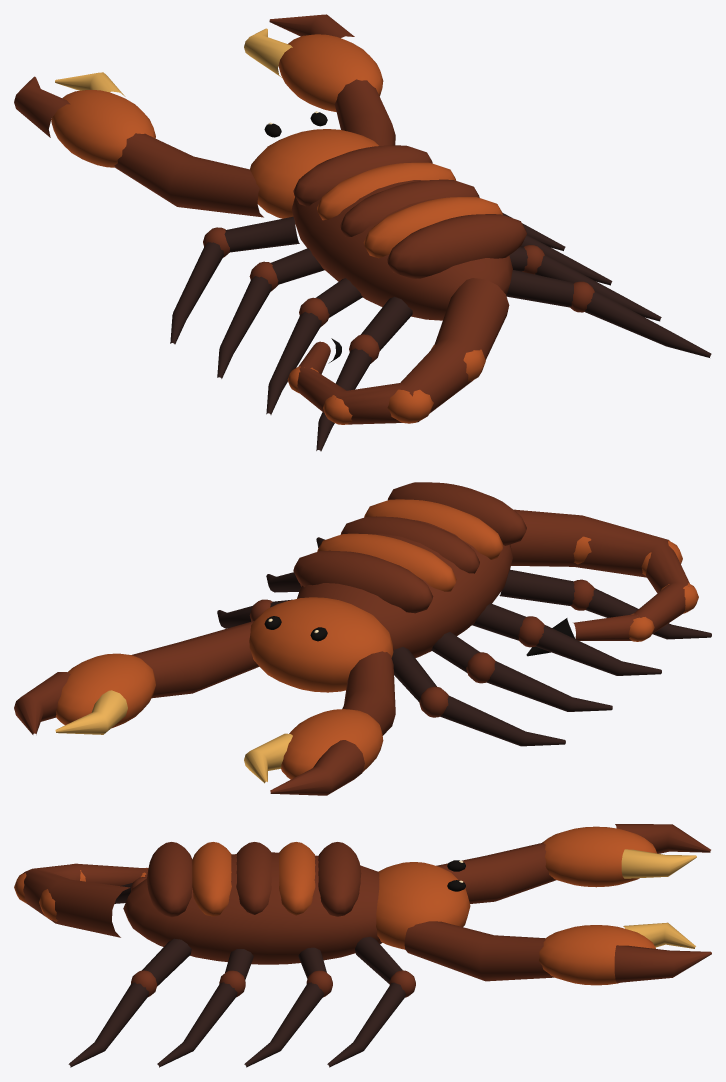
Rendered from scorpion.glb.
The picture shows the model from 3 angles, top to bottom: view 1: azimuth 30°, elevation 25°; view 2: azimuth 150°, elevation 25°; view 3: azimuth 270°, elevation 25°; orthographic projection. The views are drawn at different scales.
Visible parts, largest first — view 1: MWC_scorpion; view 2: MWC_scorpion; view 3: MWC_scorpion.
Boxes of the visible parts, box(x1,y1,x2,y2) form: MWC_scorpion: box(14, 14, 711, 451); MWC_scorpion: box(14, 482, 711, 795); MWC_scorpion: box(14, 824, 711, 1067).
Bounding box in the file's own units: 0.2923 × 0.1014 × 0.5046.
1 material, 1 textured.
